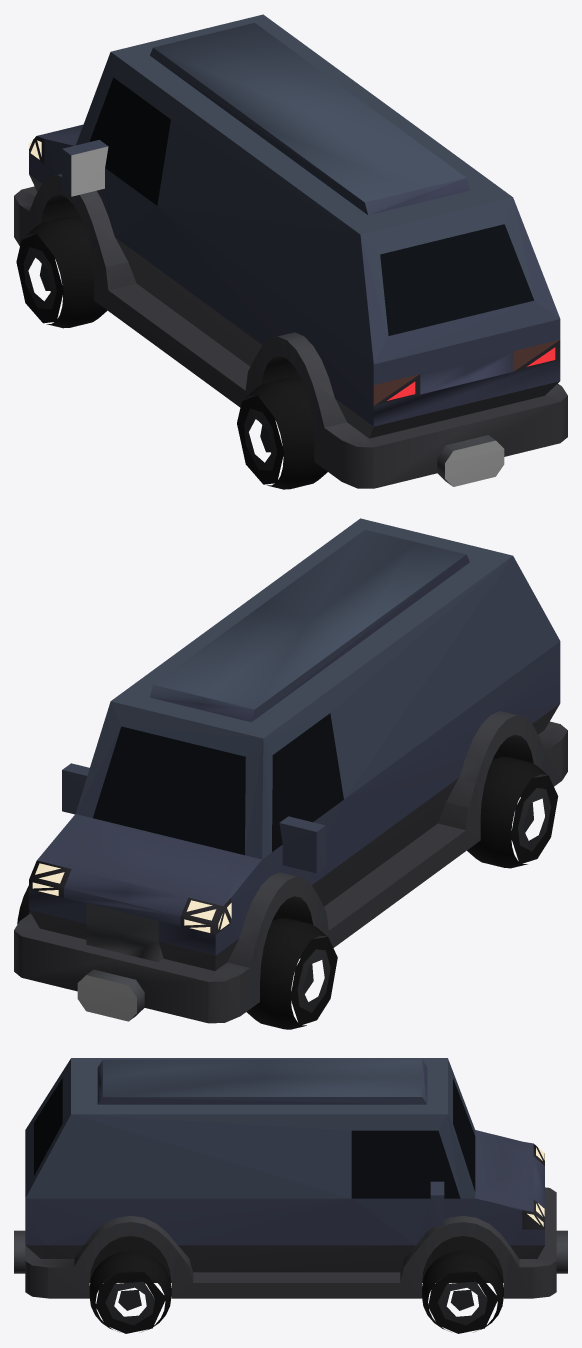
Rendered from ov_van.glb.
3 renders of one model, top to bottom at view 1: azimuth 30°, elevation 25°; view 2: azimuth 150°, elevation 25°; view 3: azimuth 270°, elevation 25°, orthographic. The views are drawn at different scales.
Parts seen in each view (by area): view 1: Body, WheelRL, WheelFL; view 2: Body, WheelRL, WheelFL; view 3: Body, WheelRR, WheelFR.
Part boxes in pixels (x1,y1,x2,y2): Body: (14, 14, 567, 488); WheelRL: (237, 378, 327, 489); WheelFL: (16, 217, 107, 328); Body: (14, 518, 567, 1023); WheelRL: (467, 757, 558, 868); WheelFL: (246, 918, 337, 1029); Body: (14, 1058, 567, 1298); WheelRR: (89, 1250, 171, 1333); WheelFR: (422, 1250, 503, 1333).
Size of what is drawn, in the model's own units: 2.15 by 2.1 by 5.
